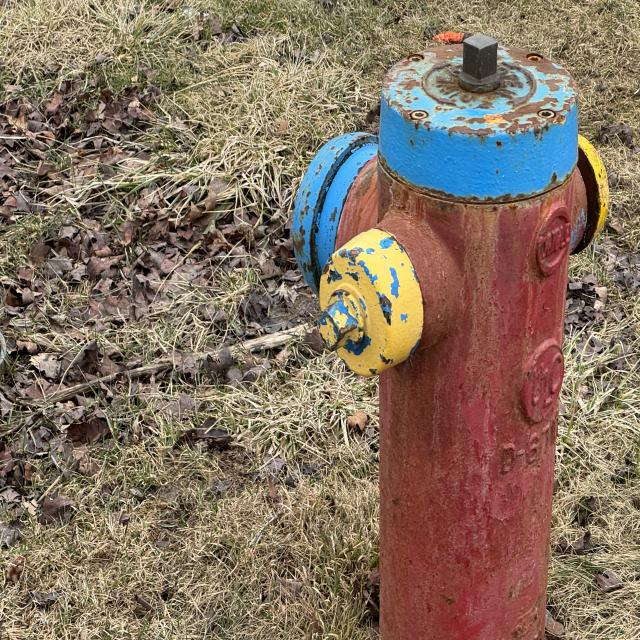Fire hydrant: (289, 31, 611, 637)
